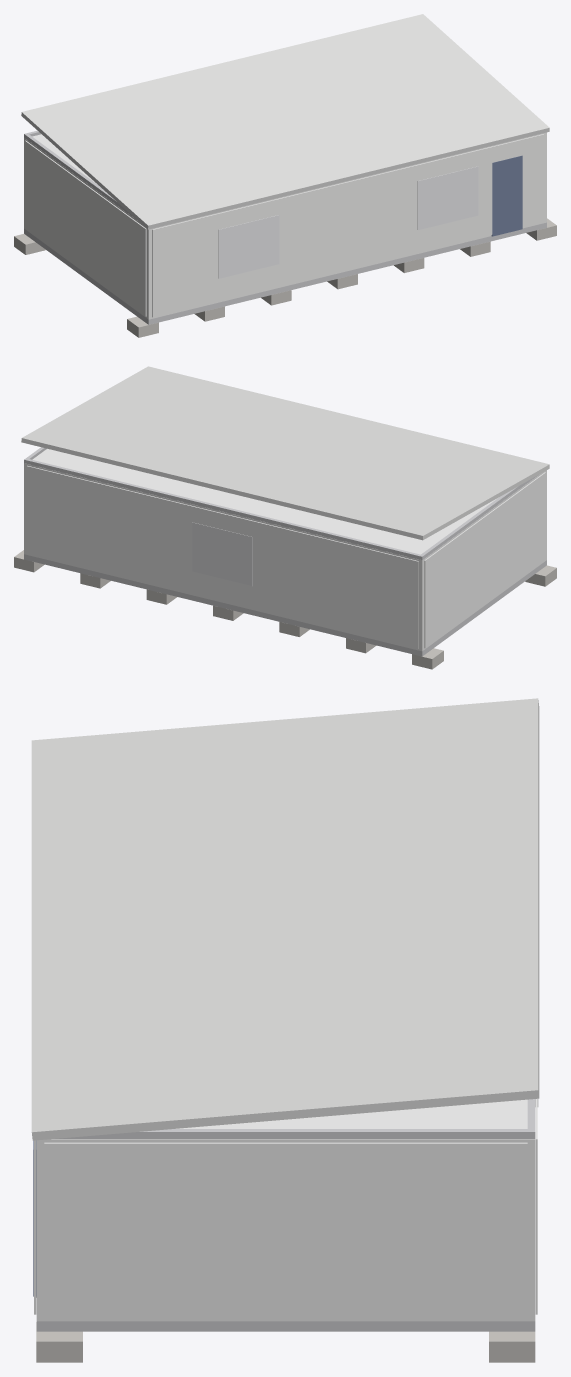
File: Studio-40-Premium+SlopingRoof-LOD1.glb
The picture shows the model from 3 angles, top to bottom: view 1: azimuth 30°, elevation 25°; view 2: azimuth 150°, elevation 25°; view 3: azimuth 270°, elevation 25°; orthographic projection. The views are drawn at different scales.
Visible parts, largest first — view 1: RoofSlopingUpgrade, ExteriorPanelsPremium, WindowsLargeUpgrade, BaseFrame, FoundationBlocks, ExteriorShell, EntryDoor, TopFrame; view 2: RoofSlopingUpgrade, ExteriorPanelsPremium, InteriorCeiling, TopFrame, ExteriorShell, BaseFrame, WindowsLargeUpgrade, FoundationBlocks; view 3: RoofSlopingUpgrade, ExteriorPanelsPremium, ExteriorShell, BaseFrame, InteriorCeiling, TopFrame, FoundationBlocks.
Part boxes in pixels (box(x1,y1,x2,y2)): RoofSlopingUpgrade: box(21, 14, 549, 229); ExteriorPanelsPremium: box(25, 134, 544, 317); WindowsLargeUpgrade: box(218, 166, 478, 278); BaseFrame: box(24, 222, 546, 324); FoundationBlocks: box(14, 218, 556, 337); ExteriorShell: box(24, 132, 546, 319); EntryDoor: box(491, 155, 522, 236); TopFrame: box(24, 130, 136, 219); RoofSlopingUpgrade: box(21, 366, 549, 540); ExteriorPanelsPremium: box(26, 465, 545, 648); InteriorCeiling: box(32, 448, 498, 554); TopFrame: box(24, 447, 538, 559); ExteriorShell: box(24, 463, 546, 651); BaseFrame: box(24, 554, 546, 656); WindowsLargeUpgrade: box(192, 522, 252, 585); FoundationBlocks: box(14, 550, 556, 669); RoofSlopingUpgrade: box(31, 698, 539, 1140); ExteriorPanelsPremium: box(34, 1098, 537, 1318); ExteriorShell: box(36, 1139, 535, 1321); BaseFrame: box(36, 1321, 535, 1331); InteriorCeiling: box(176, 1099, 527, 1128); TopFrame: box(55, 1099, 535, 1138); FoundationBlocks: box(36, 1297, 535, 1362).
Size of the model in its own units: 12.49 by 3.77 by 6.56.
